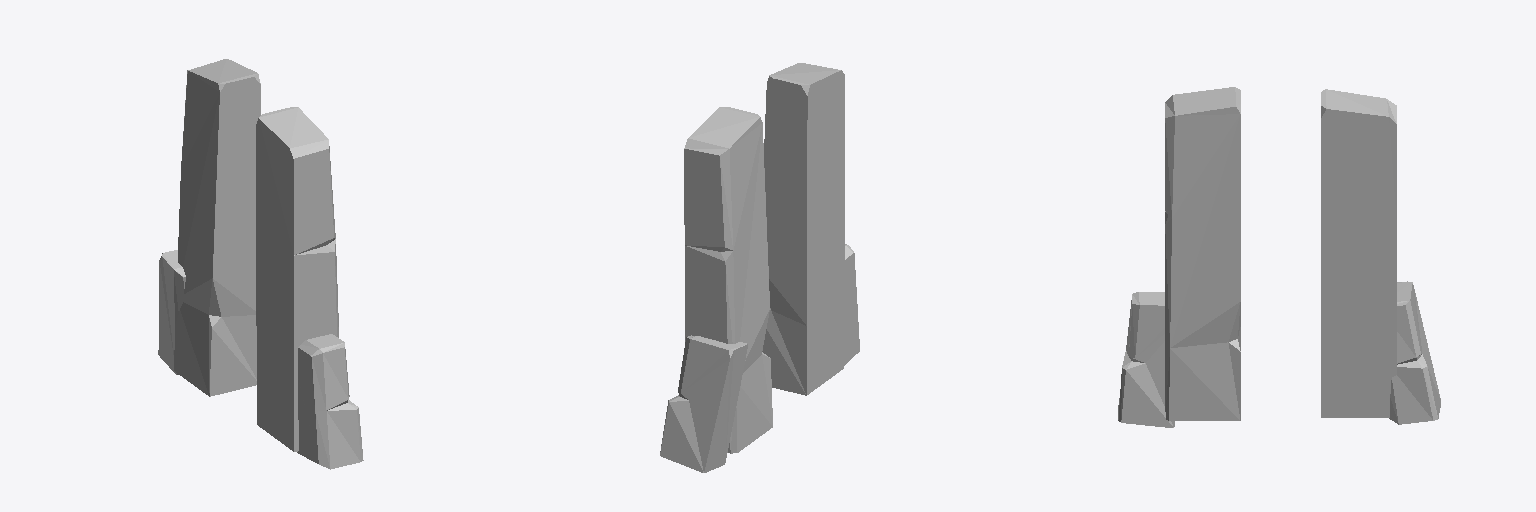
The model's file is landmark--pillars__01.obj.
3 renders of one model, left to right at view 1: azimuth 30°, elevation 25°; view 2: azimuth 150°, elevation 25°; view 3: azimuth 270°, elevation 25°, orthographic.
Parts seen in each view (by area): view 1: pillars__01_Cube.009; view 2: pillars__01_Cube.009; view 3: pillars__01_Cube.009.
Part boxes in pixels (bbox=[...]): pillars__01_Cube.009: bbox=[158, 59, 363, 469]; pillars__01_Cube.009: bbox=[660, 63, 859, 472]; pillars__01_Cube.009: bbox=[1118, 87, 1440, 427].
Bounding box in the file's own units: 1.31 × 6.32 × 5.8.